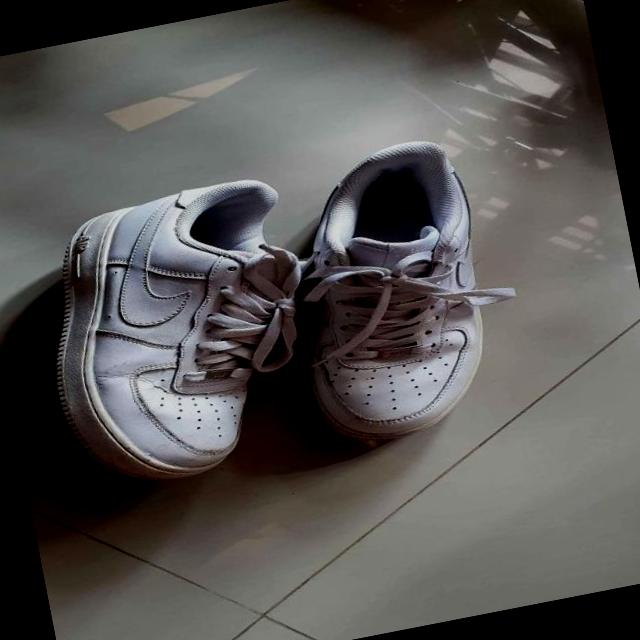nike_original_airforce: (16, 153, 328, 502), (258, 131, 523, 456)
